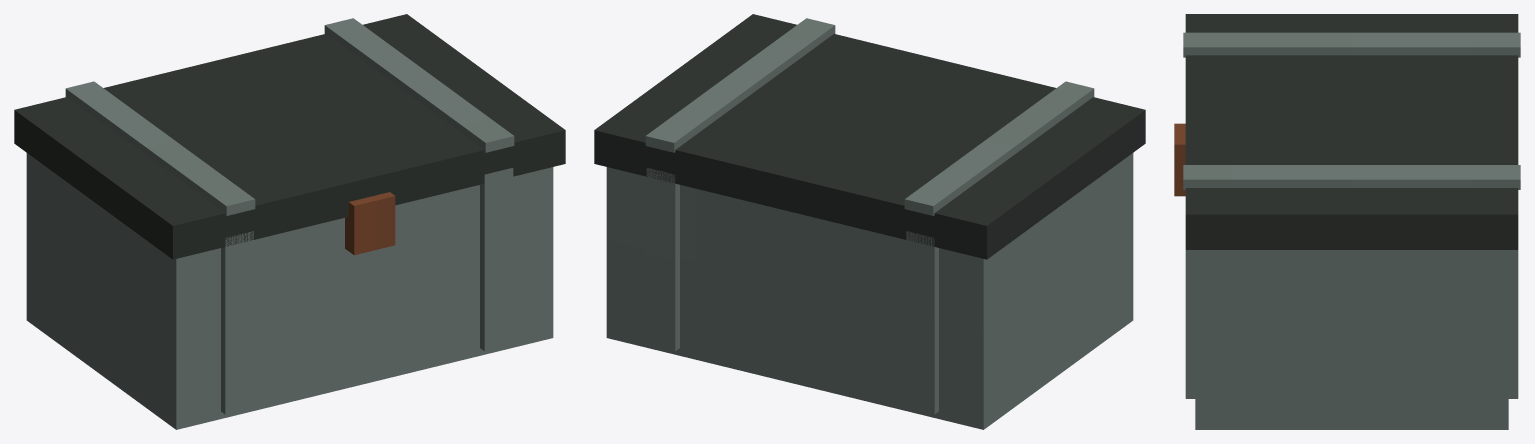
The model's file is cache.glb.
3 views of the same model, side by side, from view 1: azimuth 30°, elevation 25°; view 2: azimuth 150°, elevation 25°; view 3: azimuth 270°, elevation 25° (orthographic). The views are drawn at different scales.
Parts seen in each view (by area): view 1: Housing; view 2: Housing; view 3: Housing.
Boxes of the visible parts, bbox=[...] form: Housing: bbox=[14, 14, 565, 429]; Housing: bbox=[594, 14, 1145, 429]; Housing: bbox=[1174, 14, 1520, 429].
Size of the model in its own units: 1 by 0.528 by 0.729.
3 materials, 3 textured.
